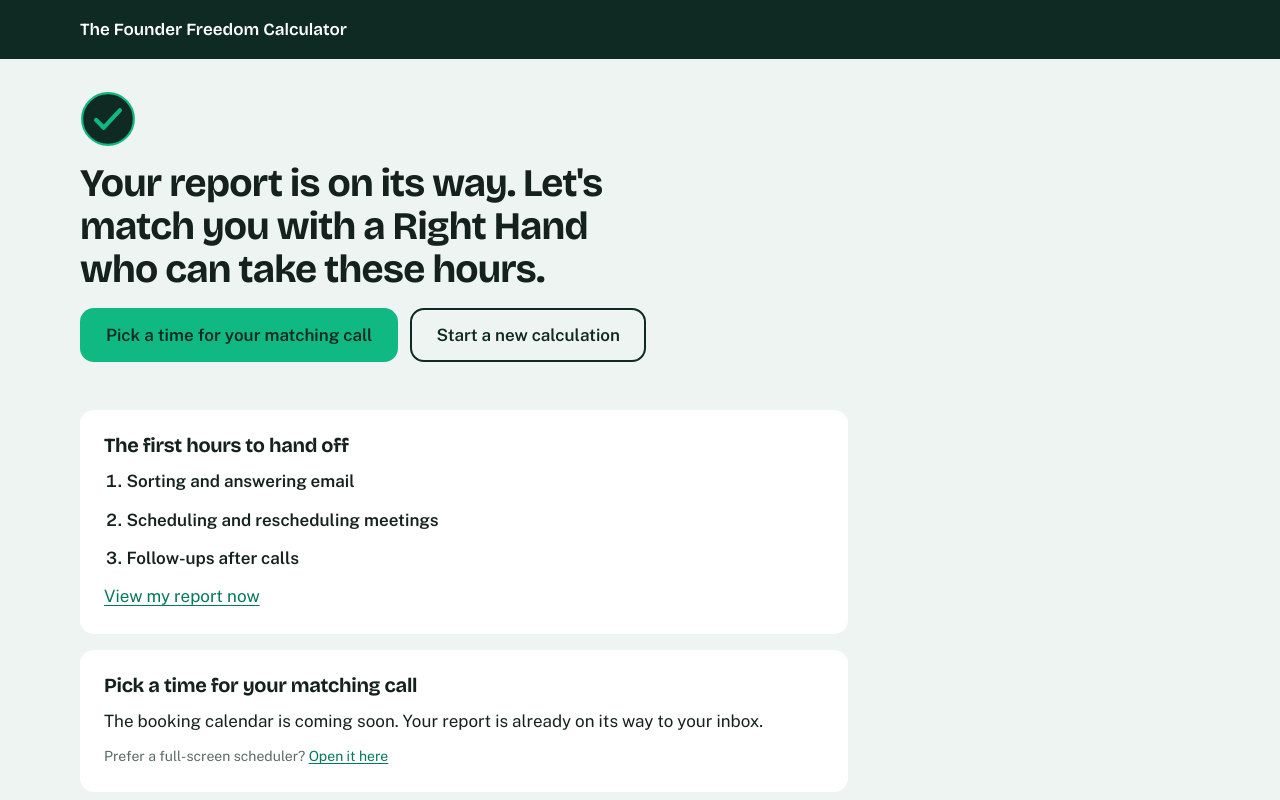
"Start a new calculation" › on /book it clears everything and opens a clean step 1
Click the button "Start a new calculation" at (528, 335), box 410,308 -> 646,362
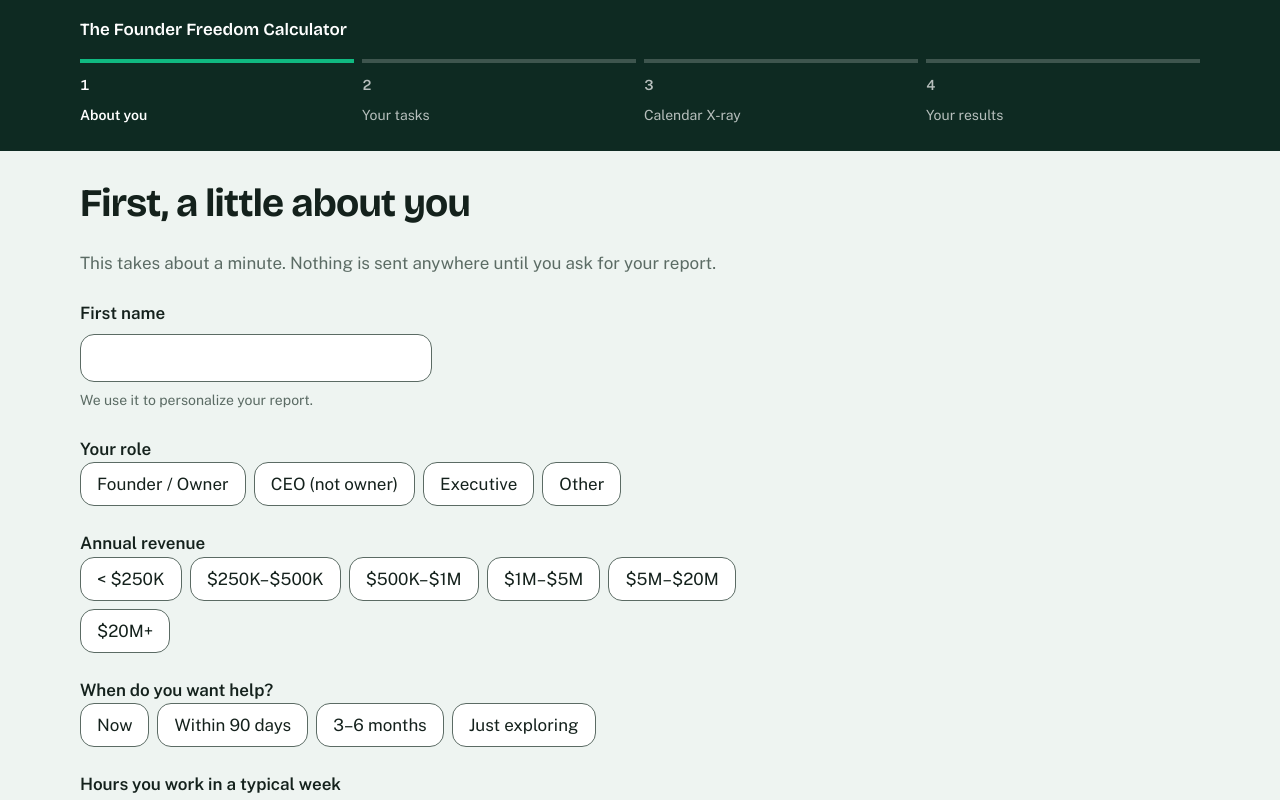
Expected: the heading "First, a little about you" is shown, 80,180 -> 470,227
Expected: the field labelled "First name" is empty, 80,334 -> 432,382
